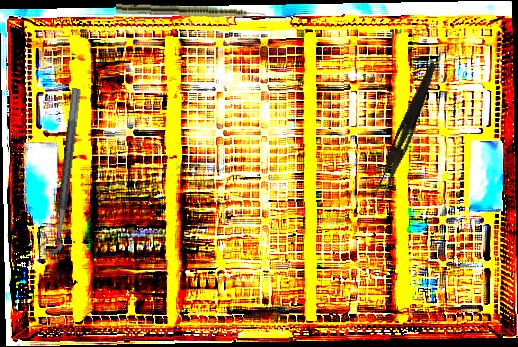Dressing Forceps: (373, 59, 439, 202)
Fixation Ring: (36, 86, 83, 257)
Handpiece: (115, 3, 272, 21)
